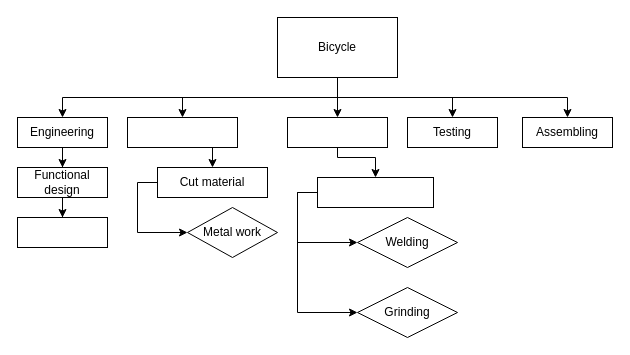
Some shapes in this 630 by 355 pixel diagram are drawn without their labels. The shapes that lost their labels are listed below. From the top down, each one's centre as x and y in pixels, then its label:
the point at 182,132: Prefabrication
the point at 337,132: Building
the point at 375,192: Build the frame
the point at 62,232: Detail design
